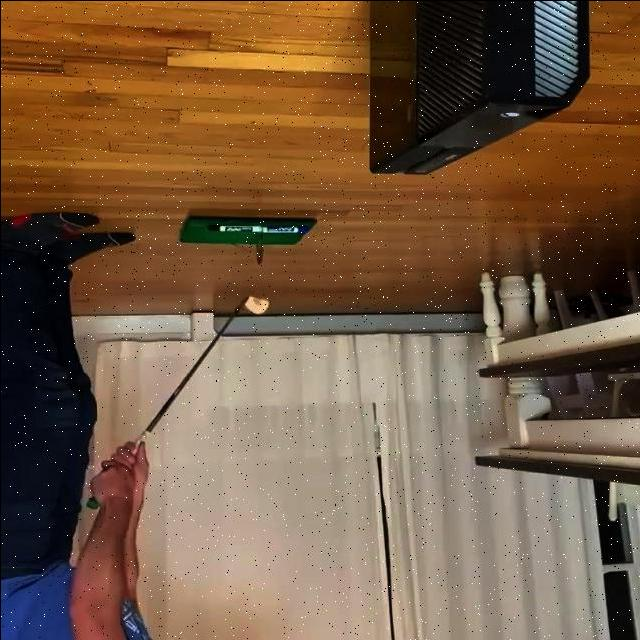golf club-handle: (83, 292, 271, 510)
golf club-head: (240, 294, 268, 314)
